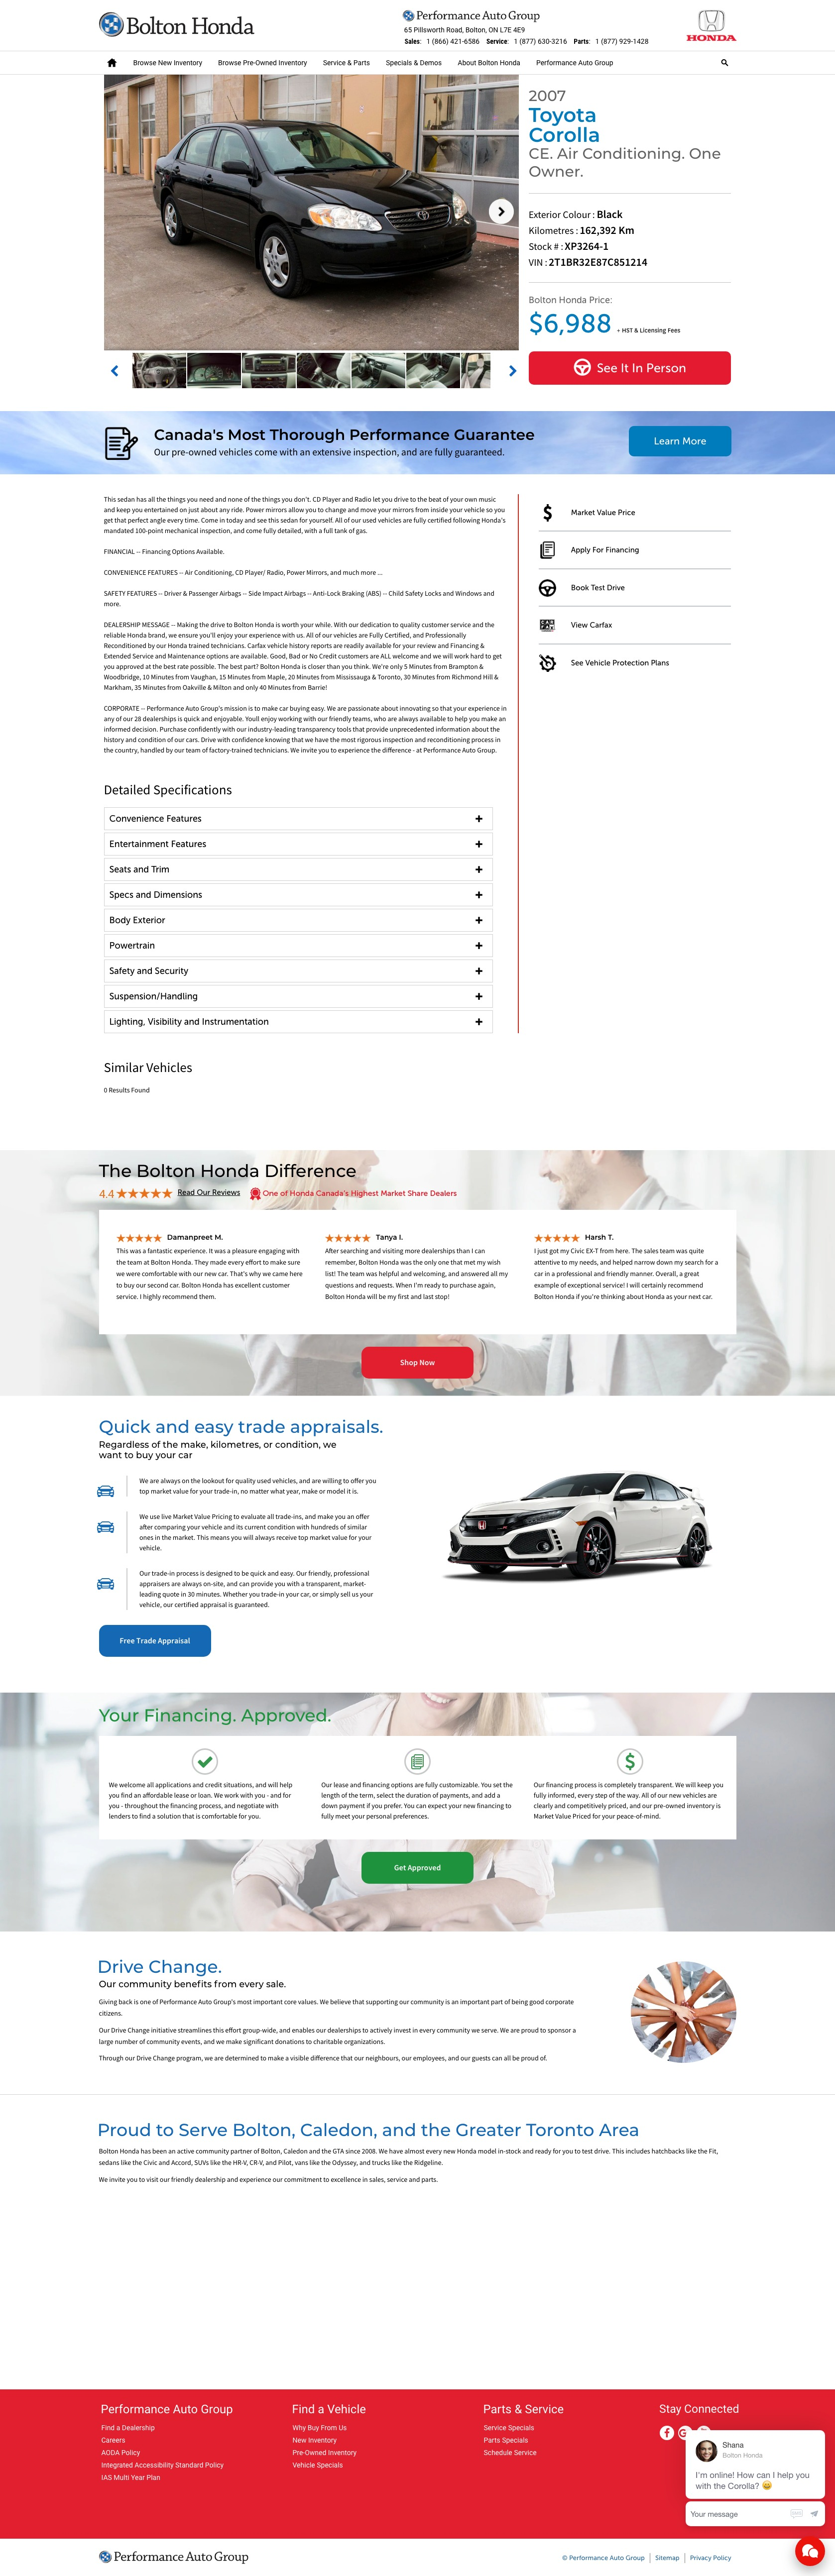car: (510, 366, 516, 376)
